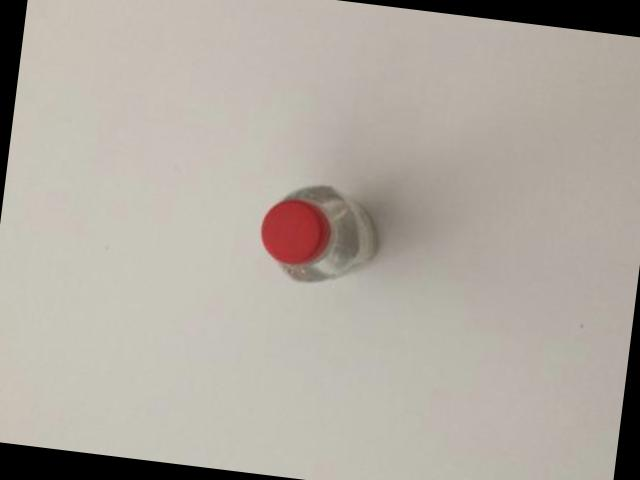plastic: (259, 184, 375, 279)
